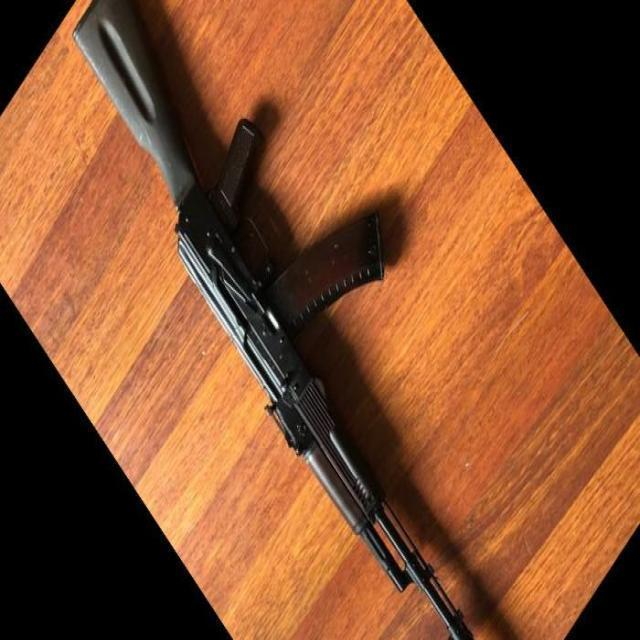Rifle: (71, 0, 475, 640)
